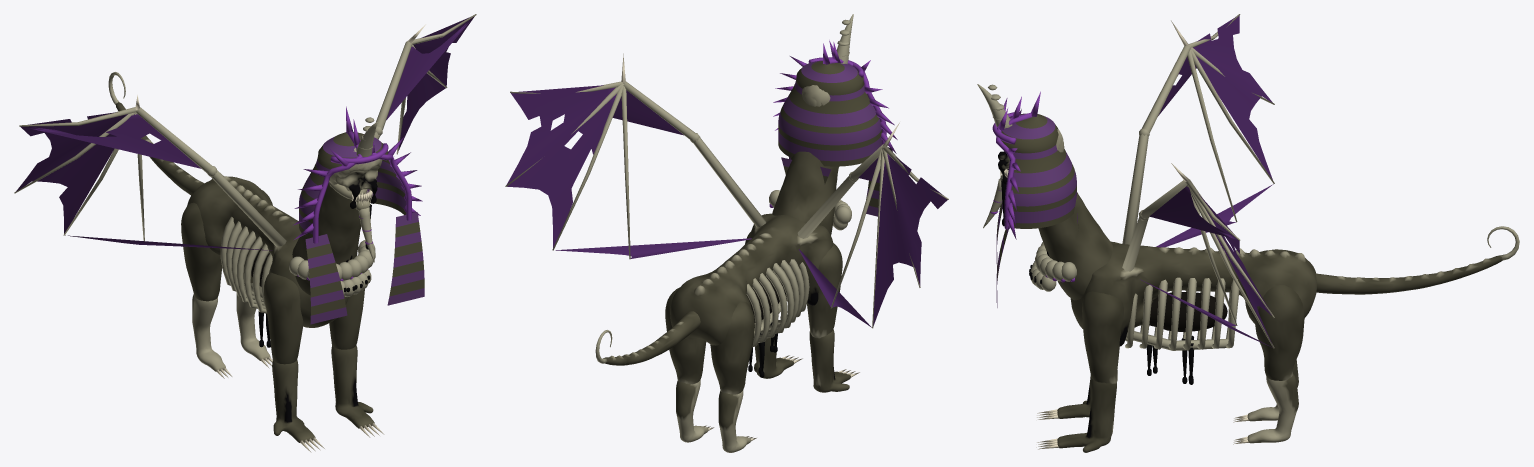
The model's file is esfinge.glb.
3 renders of one model, left to right at view 1: azimuth 30°, elevation 25°; view 2: azimuth 150°, elevation 25°; view 3: azimuth 270°, elevation 25°, orthographic. The views are drawn at different scales.
Visible parts, largest first — view 1: P_head, P_wingR, P_torso, P_wingL, P_neck, P_legFR, P_legBR, P_kneeFL, P_kneeFR, P_kneeBR, P_legFL, P_kneeBL (+2 smaller); view 2: P_wingL, P_torso, P_head, P_wingR, P_neck, P_legBR, P_tail, P_legFR, P_kneeFR, P_legBL, P_kneeBR, P_kneeBL (+1 smaller); view 3: P_torso, P_wingR, P_head, P_wingL, P_neck, P_legBL, P_legFL, P_tail, P_kneeFL, P_kneeBL, P_kneeFR, P_kneeBR.
Boxes of the visible parts, bbox=[...] form: P_head: bbox=[293, 106, 424, 324]; P_wingR: bbox=[14, 95, 286, 250]; P_torso: bbox=[187, 173, 348, 347]; P_wingL: bbox=[374, 14, 476, 154]; P_neck: bbox=[289, 183, 375, 296]; P_legFR: bbox=[264, 272, 303, 364]; P_legBR: bbox=[181, 202, 222, 301]; P_kneeFL: bbox=[331, 345, 384, 437]; P_kneeFR: bbox=[272, 359, 324, 452]; P_kneeBR: bbox=[192, 294, 232, 378]; P_legFL: bbox=[329, 289, 364, 349]; P_kneeBL: bbox=[236, 287, 272, 368]; P_wingL: bbox=[505, 53, 766, 259]; P_torso: bbox=[670, 213, 833, 377]; P_head: bbox=[773, 14, 897, 216]; P_wingR: bbox=[797, 122, 948, 328]; P_neck: bbox=[769, 151, 851, 235]; P_legBR: bbox=[710, 301, 754, 394]; P_tail: bbox=[595, 311, 700, 365]; P_legFR: bbox=[807, 243, 842, 338]; P_kneeFR: bbox=[809, 329, 859, 392]; P_legBL: bbox=[665, 287, 706, 384]; P_kneeBR: bbox=[718, 390, 756, 452]; P_kneeBL: bbox=[676, 380, 714, 442]; P_torso: bbox=[1070, 241, 1316, 384]; P_wingR: bbox=[1122, 14, 1274, 247]; P_head: bbox=[977, 84, 1078, 307]; P_wingL: bbox=[1122, 163, 1274, 348]; P_neck: bbox=[1029, 192, 1113, 300]; P_legBL: bbox=[1255, 285, 1304, 380]; P_legFL: bbox=[1082, 291, 1123, 383]; P_tail: bbox=[1315, 226, 1519, 294]; P_kneeFL: bbox=[1036, 378, 1116, 452]; P_kneeBL: bbox=[1233, 374, 1298, 444]; P_kneeFR: bbox=[1037, 375, 1091, 419]; P_kneeBR: bbox=[1233, 360, 1298, 422].
Bounding box in the file's own units: 3.7 × 2.66 × 3.76.
